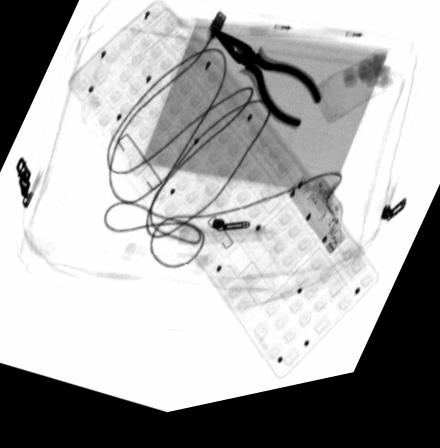Pliers: (208, 36, 322, 143)
